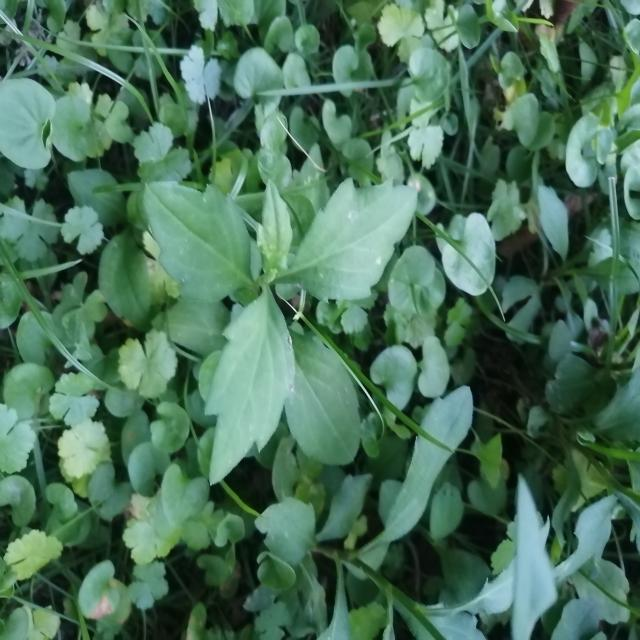Indian aster: (146, 144, 405, 482)
